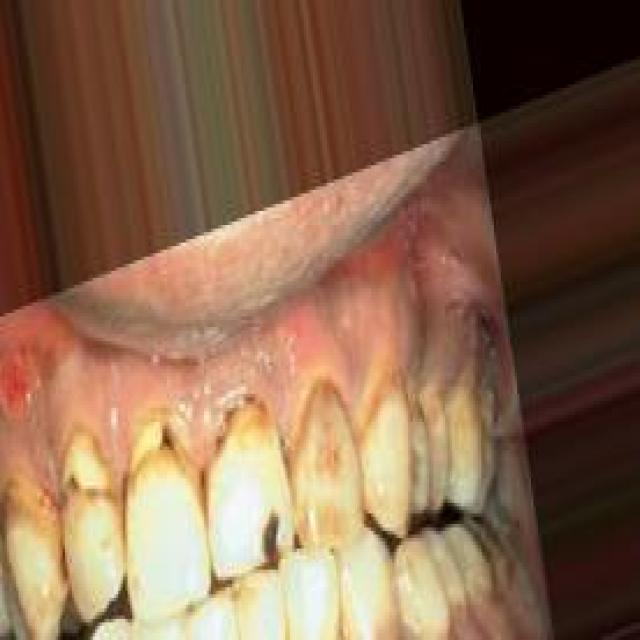caries: (125, 401, 198, 481), (54, 422, 116, 506), (208, 381, 270, 456), (250, 490, 293, 577)
